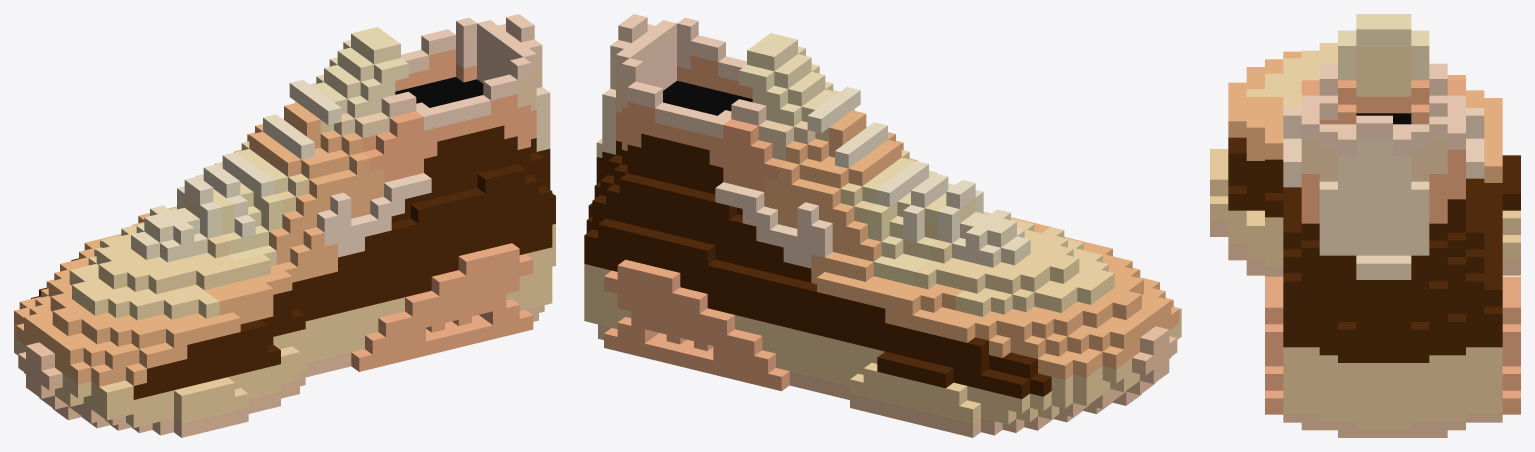
Rendered from Mocha.fbx.
The picture shows the model from 3 angles, left to right: view 1: azimuth 30°, elevation 25°; view 2: azimuth 150°, elevation 25°; view 3: azimuth 270°, elevation 25°; orthographic projection. The views are drawn at different scales.
Visible parts, largest first — view 1: Untitled; view 2: Untitled; view 3: Untitled.
Boxes of the visible parts, x1,y1,x2,y2 form: Untitled: [14, 14, 555, 437]; Untitled: [584, 14, 1181, 437]; Untitled: [1210, 14, 1520, 437].
Size of the model in its own units: 390 by 200 by 170.
